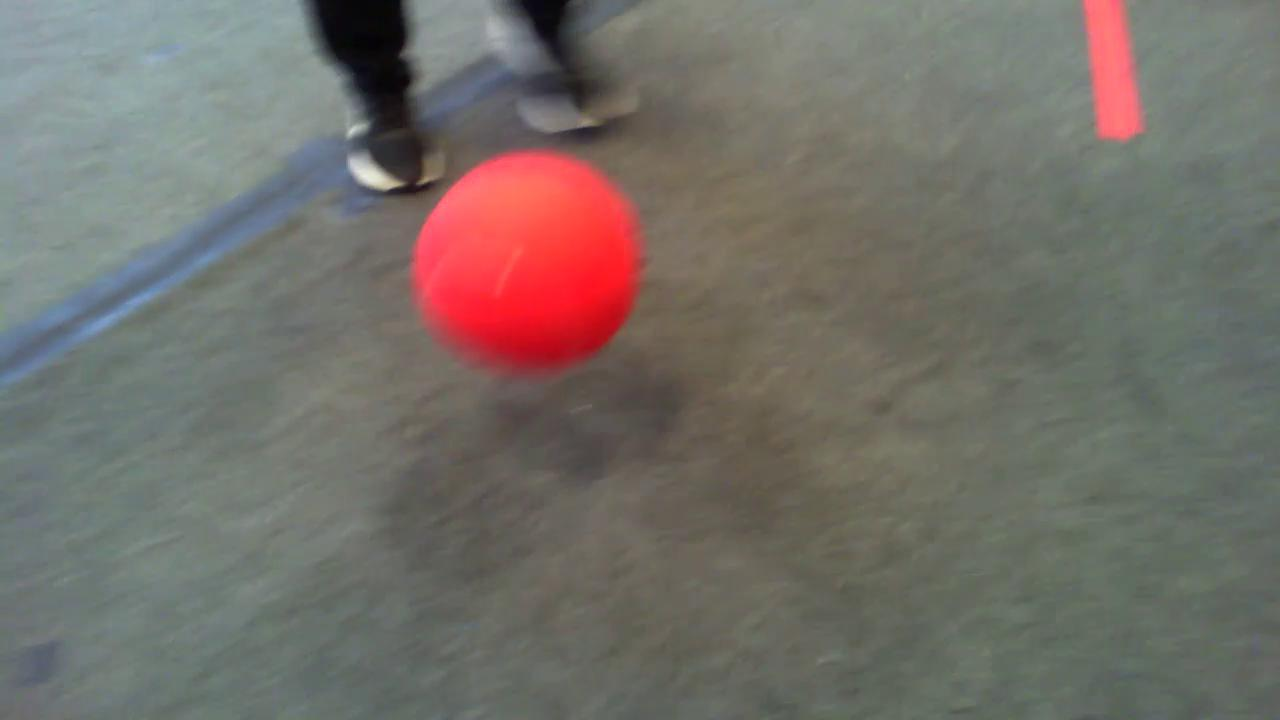Red_Ball: (387, 146, 649, 372)
